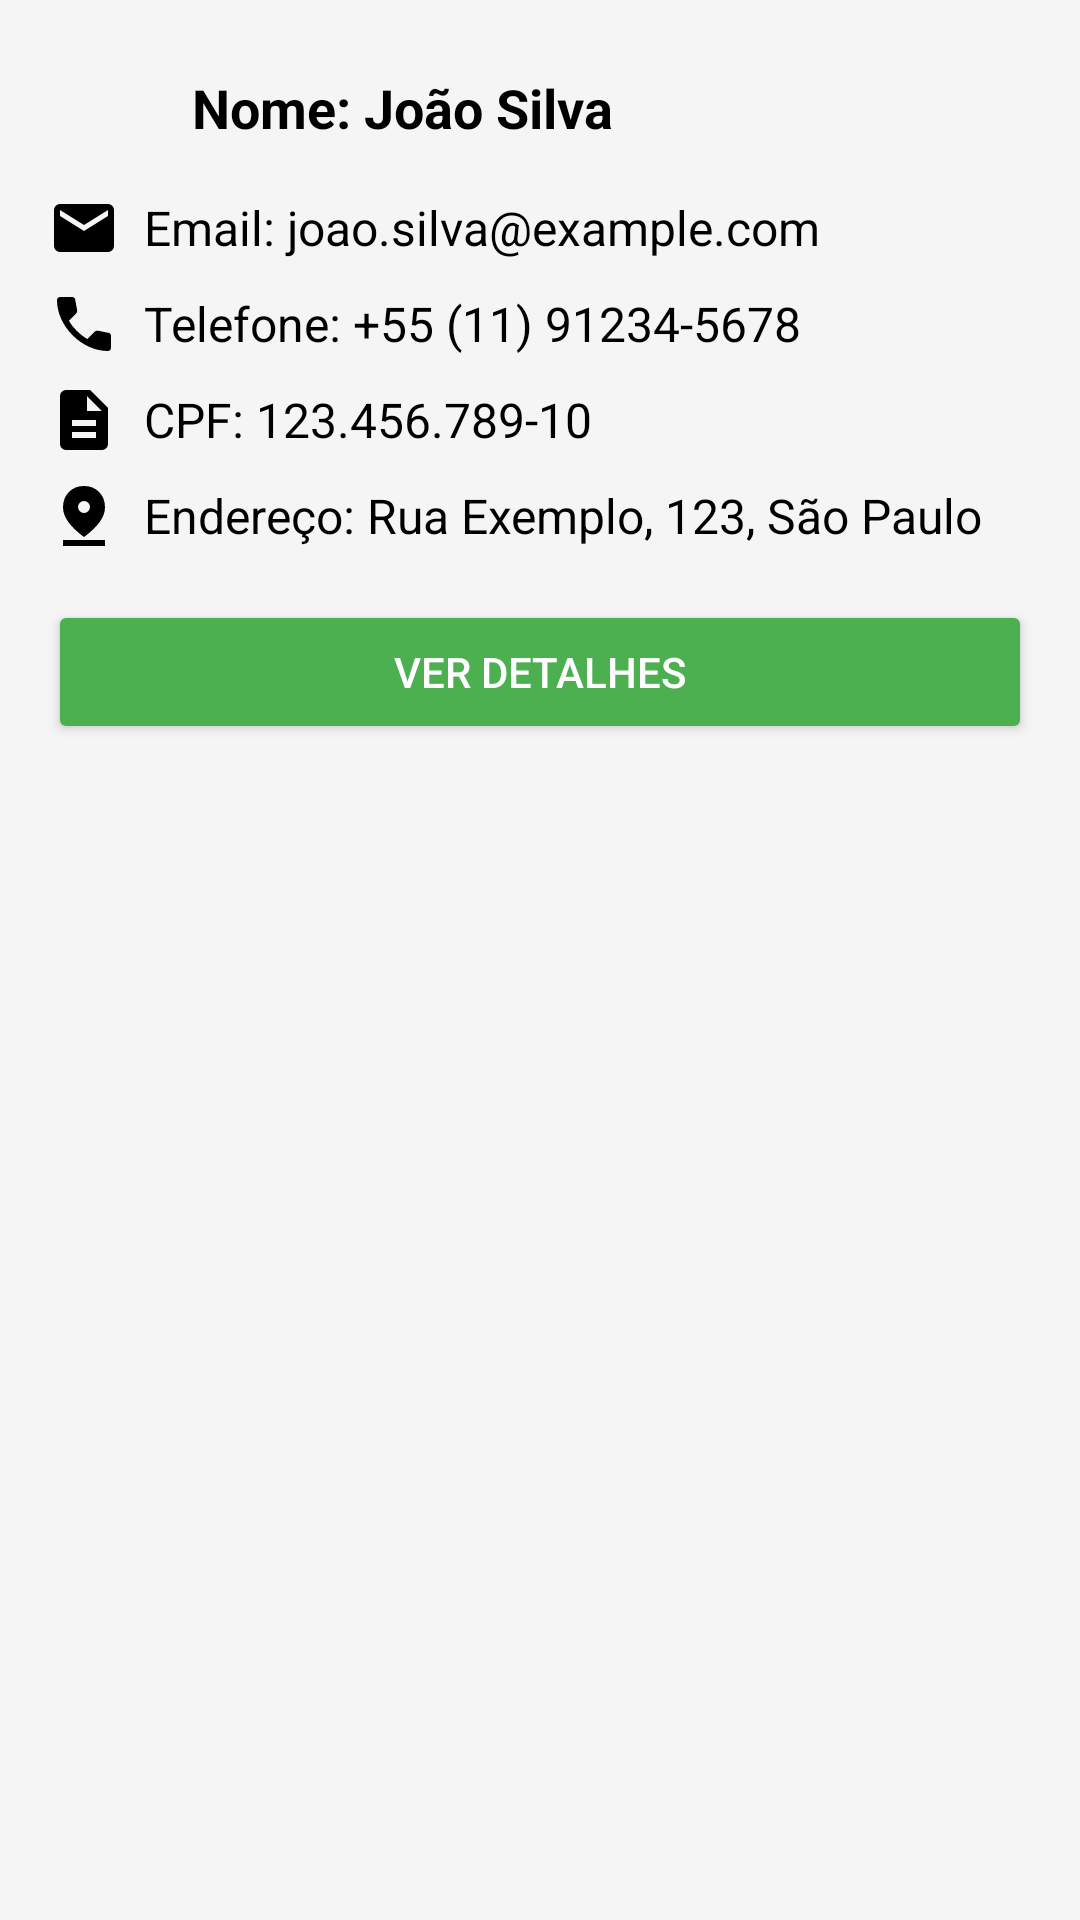

Where to tap for icons on this 1080w x 1920h app screen, as [x,y]:
Document Icon: [84,420]
Location Icon: [84,516]
Phone Icon: [84,324]
